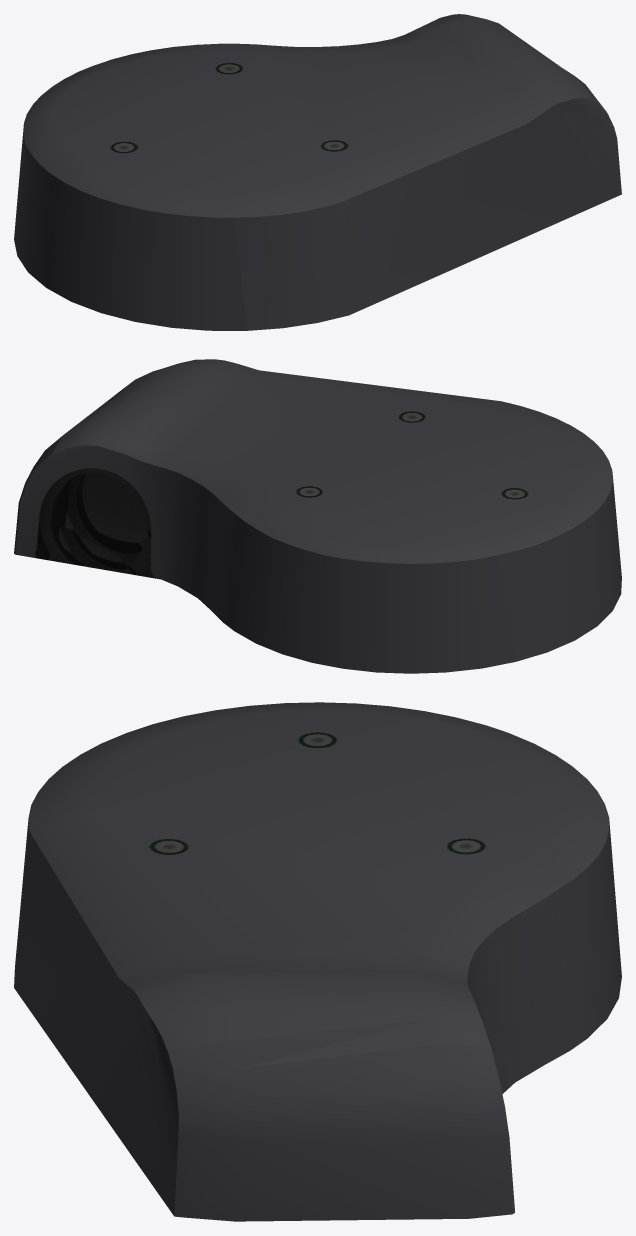
Rendered from shank_l.obj.
The picture shows the model from 3 angles, top to bottom: view 1: azimuth 30°, elevation 25°; view 2: azimuth 150°, elevation 25°; view 3: azimuth 270°, elevation 25°; orthographic projection. The views are drawn at different scales.
Size of the model in its own units: 0.2038 by 0.0469 by 0.1418.
